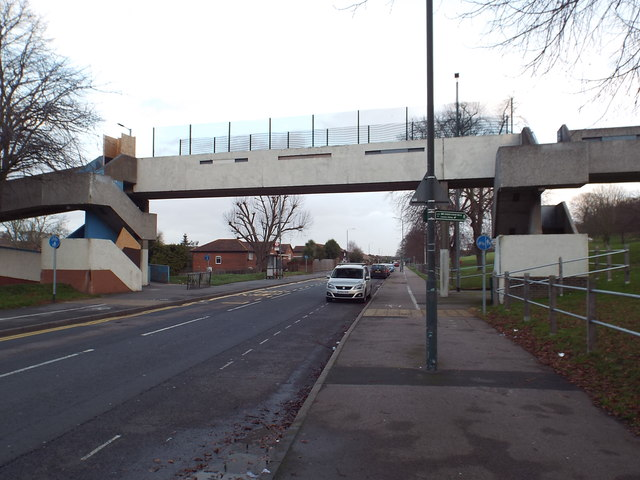bridge: (91, 100, 511, 200)
